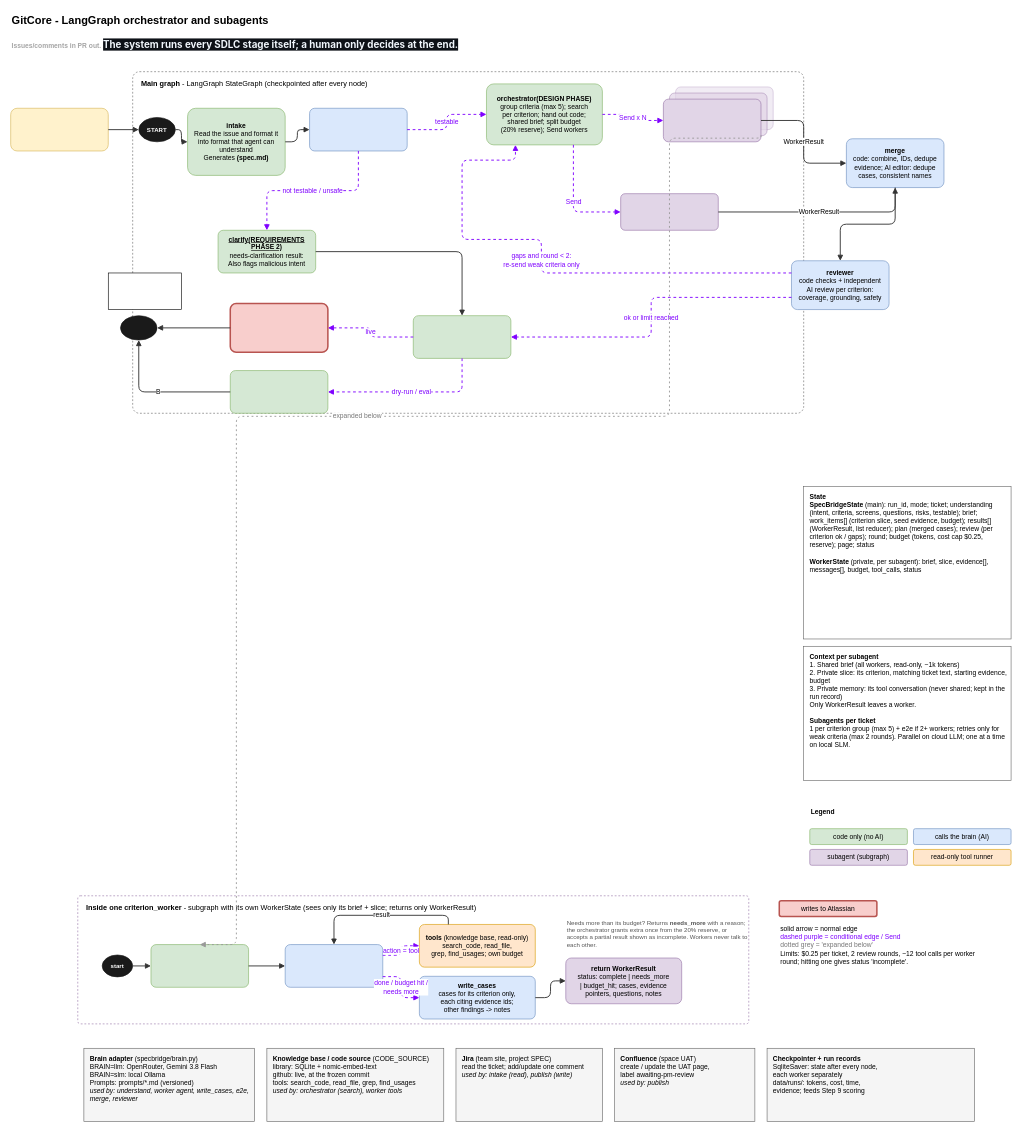
Some shapes in this 1028 by 1132 pixel diagram are drawn without their labels. Here are the shapes that lost their labels. From the top down, the centre of each, then its label:
pixel 59 129: Trigger (Issue, comment, new labels)
pixel 358 129: REQUIREMENTS PHASE 1 intent, acceptance criteria, screens, questions, risks
pixel 712 120: criterion_worker x N (subgraph, parallel) search + write cases for one criterion
pixel 669 211: e2e_worker (subgraph) flows that span criteria (only if 2+ workers)
pixel 144 291: MERGE HAPPENS MANUALLY
pixel 138 327: END
pixel 278 327: RELEASE PHASE upsert page in UAT, comment on ticket; never overwrite PM edits
pixel 462 336: render page grouped by criterion + ticket comment text
pixel 279 391: save_local page + run record to file (dry-run / eval mode)
pixel 199 965: receive_slice shared brief + its criterion + starting evidence + budget
pixel 334 965: agent choose next read-only tool or done (JSON action)
